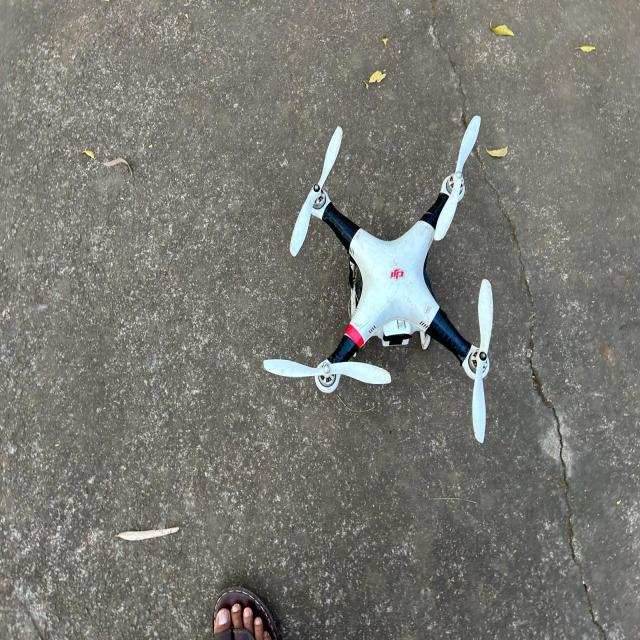drone: (250, 68, 549, 503)
